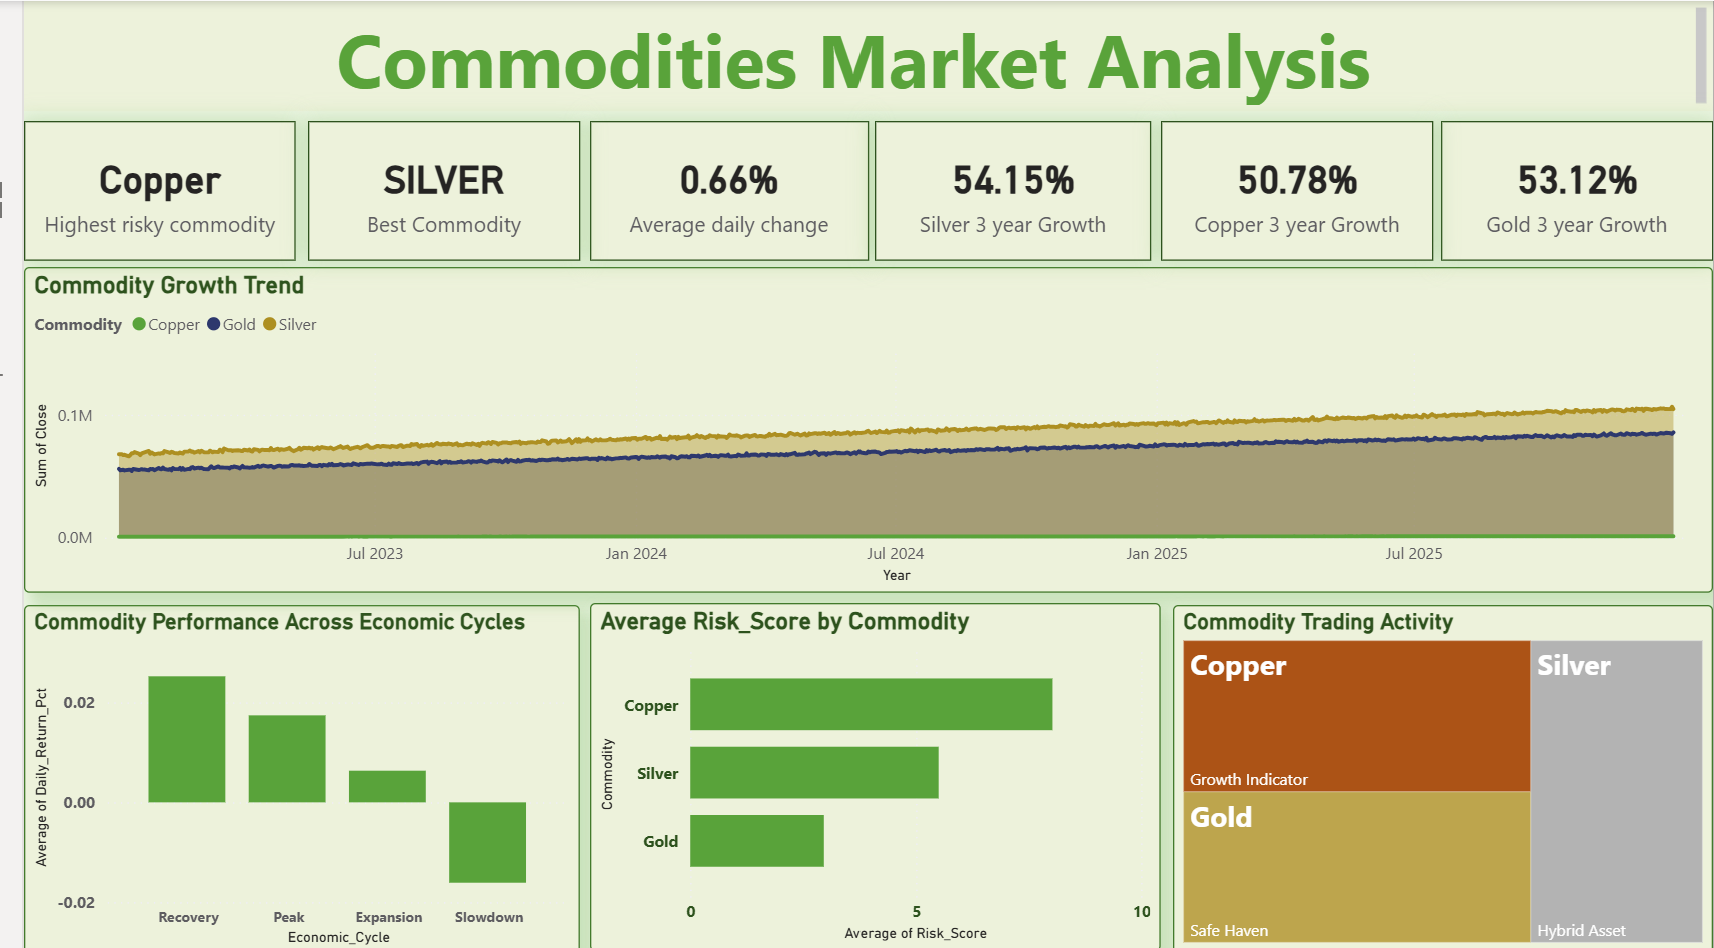

This screenshot's page, from the dashboard's own definition file:
{"tool":"powerbi","page":{"name":"Commodities Market Analysis ","canvas":[1280,720],"ordinal":2},"visuals":[{"type":"textbox","box":[0,0,1280,83.4],"z":0},{"type":"clusteredColumnChart","title":"Commodity Performance Across Economic Cycles","fields":{"Category":["Commodity Market.Economic_Cycle"],"Y":["Avg(Commodity Market.Daily_Return_Pct)"]},"box":[0,458,421.6,265.4],"z":1000},{"type":"areaChart","title":"Commodity Growth Trend","fields":{"Category":["Commodity Market.Date.Variation.Date Hierarchy.Year","Commodity Market.Date.Variation.Date Hierarchy.Quarter","Commodity Market.Date.Variation.Date Hierarchy.Month","Commodity Market.Date.Variation.Date Hierarchy.Day"],"Y":["Sum(Commodity Market.Close)"],"Series":["Commodity Market.Commodity"]},"box":[0,202,1280,247.2],"z":2000},{"type":"clusteredBarChart","title":"Average Risk_Score by Commodity","fields":{"Category":["Commodity Market.Commodity"],"Y":["Avg(Commodity Market.Risk_Score)"]},"box":[429.2,456.5,432.2,263.9],"z":3000},{"type":"treemap","title":"Commodity Trading Activity","fields":{"Group":["Commodity Market.Commodity"],"Values":["Avg(Commodity Market.Volume)"],"Details":["Commodity Market.Market_Role"]},"box":[870.5,458,409.5,263.9],"z":4000},{"type":"card","fields":{"Values":["Commodity market dax.Highest risky commodity"]},"box":[1,91,206,106.2],"z":5000},{"type":"card","fields":{"Values":["Commodity market dax.Gold 3 year Growth"]},"box":[1071,91,206.3,106.2],"z":6000},{"type":"card","fields":{"Values":["Commodity market dax.Average daily change"]},"box":[426,91,210.8,106.2],"z":7000},{"type":"card","fields":{"Values":["Commodity market dax.Best Commodity"]},"box":[214,91,206.3,106.2],"z":8000},{"type":"card","fields":{"Values":["Commodity market dax.Silver 3 year Growth"]},"box":[643,91,209.3,106.2],"z":9000},{"type":"card","fields":{"Values":["Commodity market dax.Copper 3 year Growth"]},"box":[859,91,206.3,106.2],"z":10000}]}

Visuals, with their boxes in screenshot pixels (x1, y1, x2, y2), scaled from the page's 1280x720 canvas onto the 1714x948 screenshot:
textbox: 0:0:1713:110
"Commodity Performance Across Economic Cycles" clusteredColumnChart: 0:603:565:947
"Commodity Growth Trend" areaChart: 0:266:1713:591
"Average Risk_Score by Commodity" clusteredBarChart: 575:601:1153:947
"Commodity Trading Activity" treemap: 1166:603:1713:947
card - Commodity market dax.Highest risky commodity: 1:120:277:260
card - Commodity market dax.Gold 3 year Growth: 1434:120:1710:260
card - Commodity market dax.Average daily change: 570:120:853:260
card - Commodity market dax.Best Commodity: 287:120:563:260
card - Commodity market dax.Silver 3 year Growth: 861:120:1141:260
card - Commodity market dax.Copper 3 year Growth: 1150:120:1427:260
